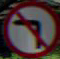Don't turn left: (6, 9, 50, 48)
